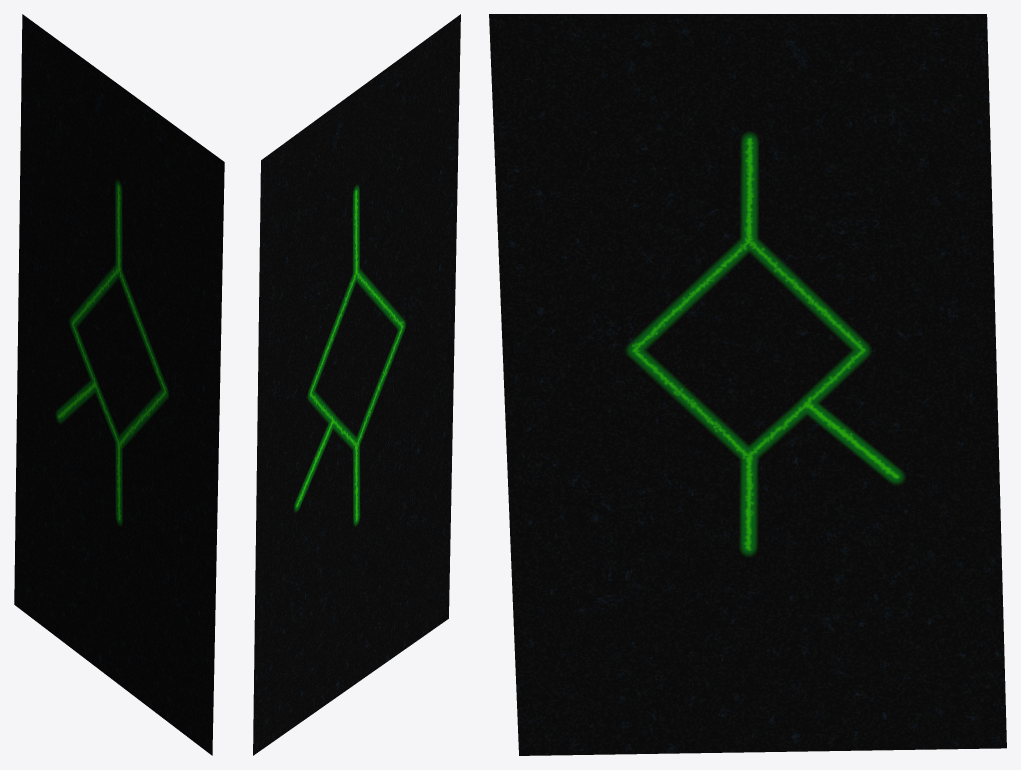
Rendered from Puzel2.glb.
3 views of the same model, side by side, from view 1: azimuth 30°, elevation 25°; view 2: azimuth 150°, elevation 25°; view 3: azimuth 270°, elevation 25° (orthographic). The views are drawn at different scales.
Visible parts, largest first — view 1: Plane.028; view 2: Plane.028; view 3: Plane.028.
Part boxes in pixels (x1,y1,x2,y2): Plane.028: [14, 14, 224, 755]; Plane.028: [253, 14, 460, 755]; Plane.028: [489, 14, 1006, 755].
Bounding box in the file's own units: 1.49e-07 × 1.67 × 1.06.
Materials: 1 (1 with a texture image).
